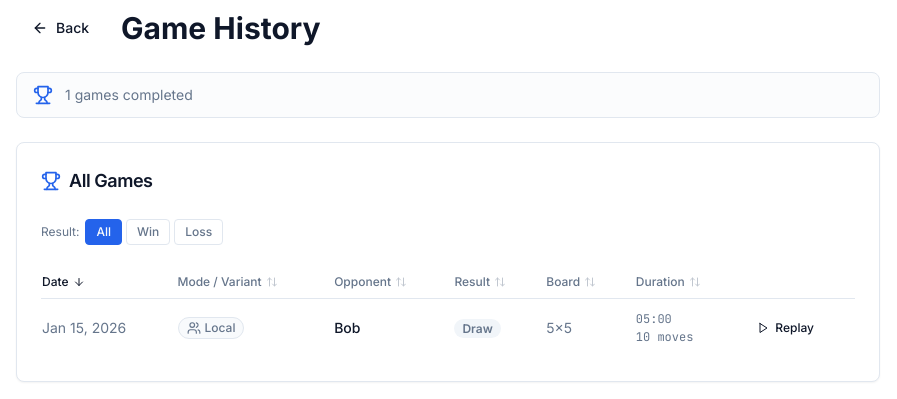
Test: GameHistoryPage — result filter › shows no-match message when filter yields empty results
Click the button "Win" at (148, 232), box [126,219,170,245]
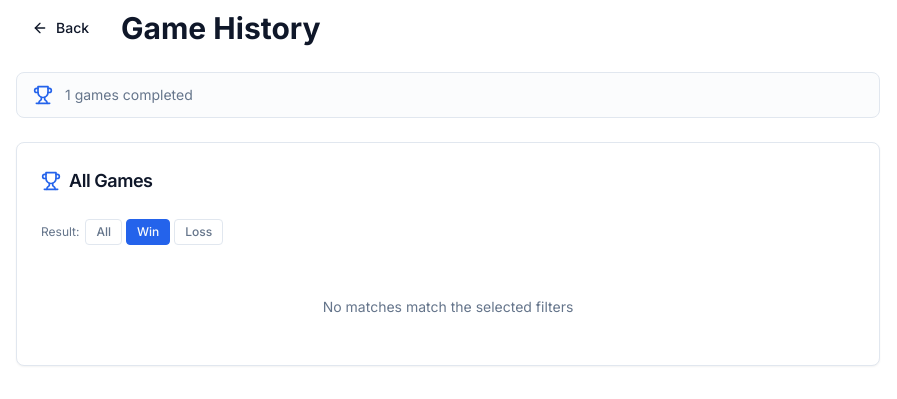
Expected: the text "No matches match the selected filters" is shown, [323,298,573,315]
